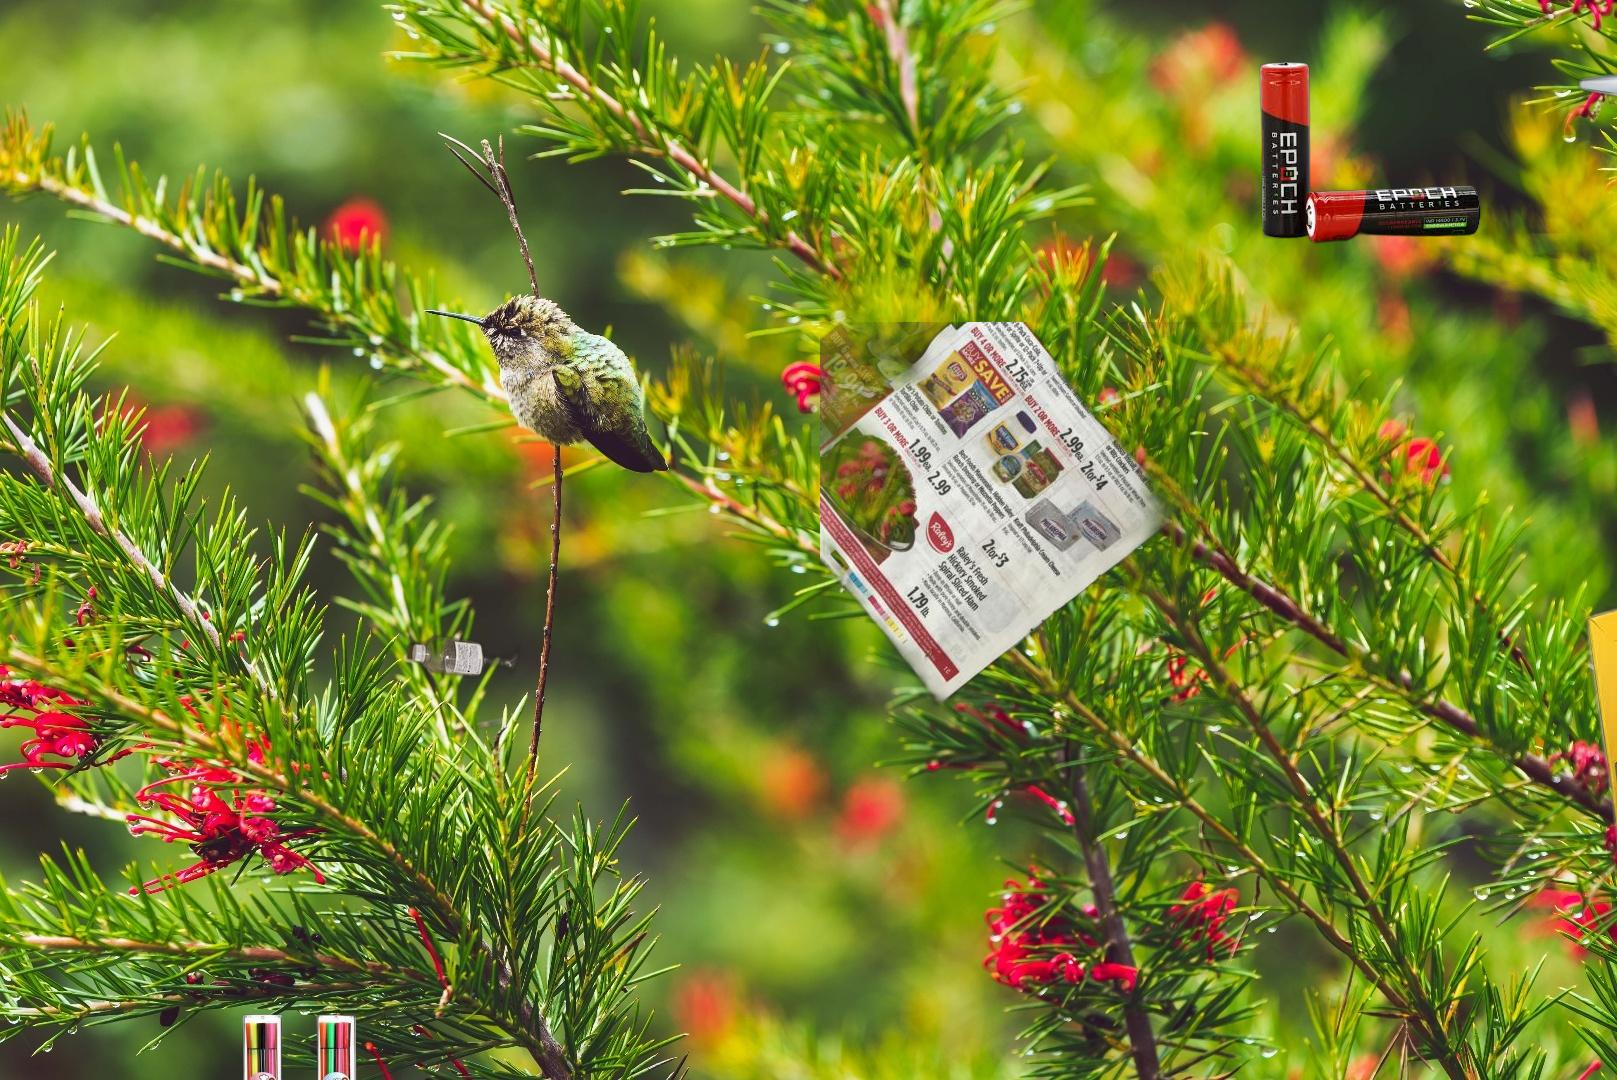battery: (1258, 60, 1482, 246)
metal-cans: (588, 1046, 1002, 1080)
paper: (821, 322, 1331, 706)
penholder: (1445, 55, 1617, 330), (240, 1011, 360, 1080)
plastic-bottles: (402, 629, 523, 683)
trashbox-cardboard: (1575, 460, 1617, 1080)
